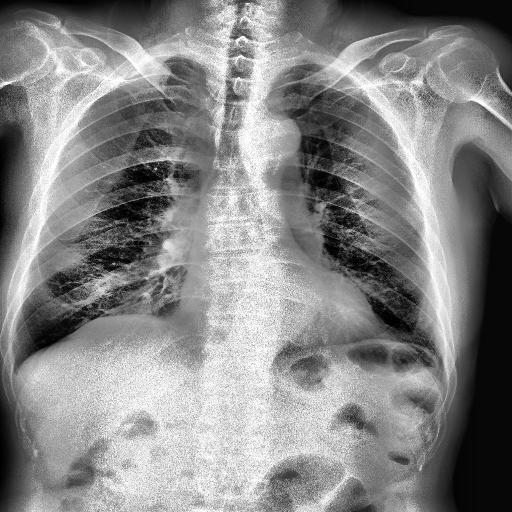0- Aortic enlargement: (241, 112, 307, 180), (238, 110, 302, 164), (254, 113, 301, 161)
11- Pleural thickening: (148, 56, 202, 66)
